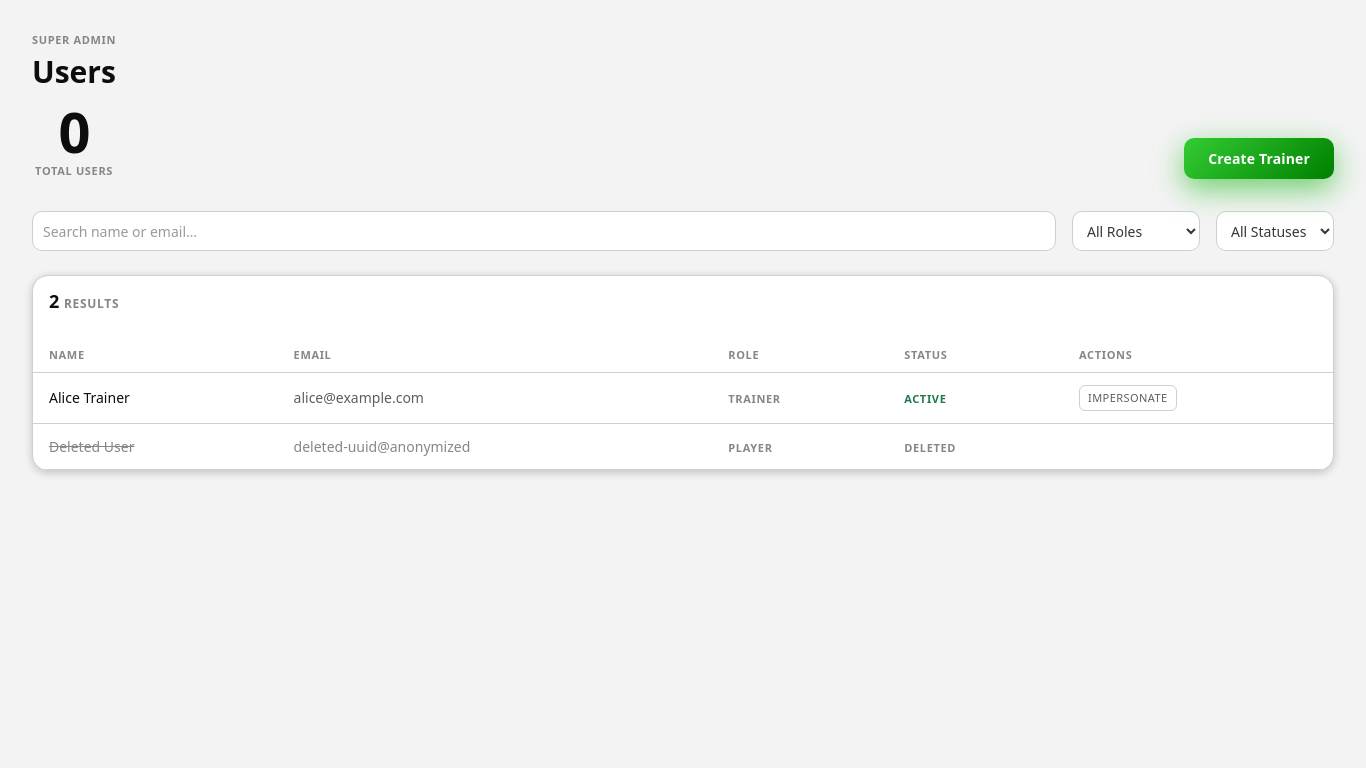
SA UsersPage › shows EMAIL_EXISTS error inline in the create sheet
expect the text "Alice Trainer" is shown: met, box [49,388,130,407]
Click the button "Create Trainer": point(1259, 158) [1184,138,1334,179]
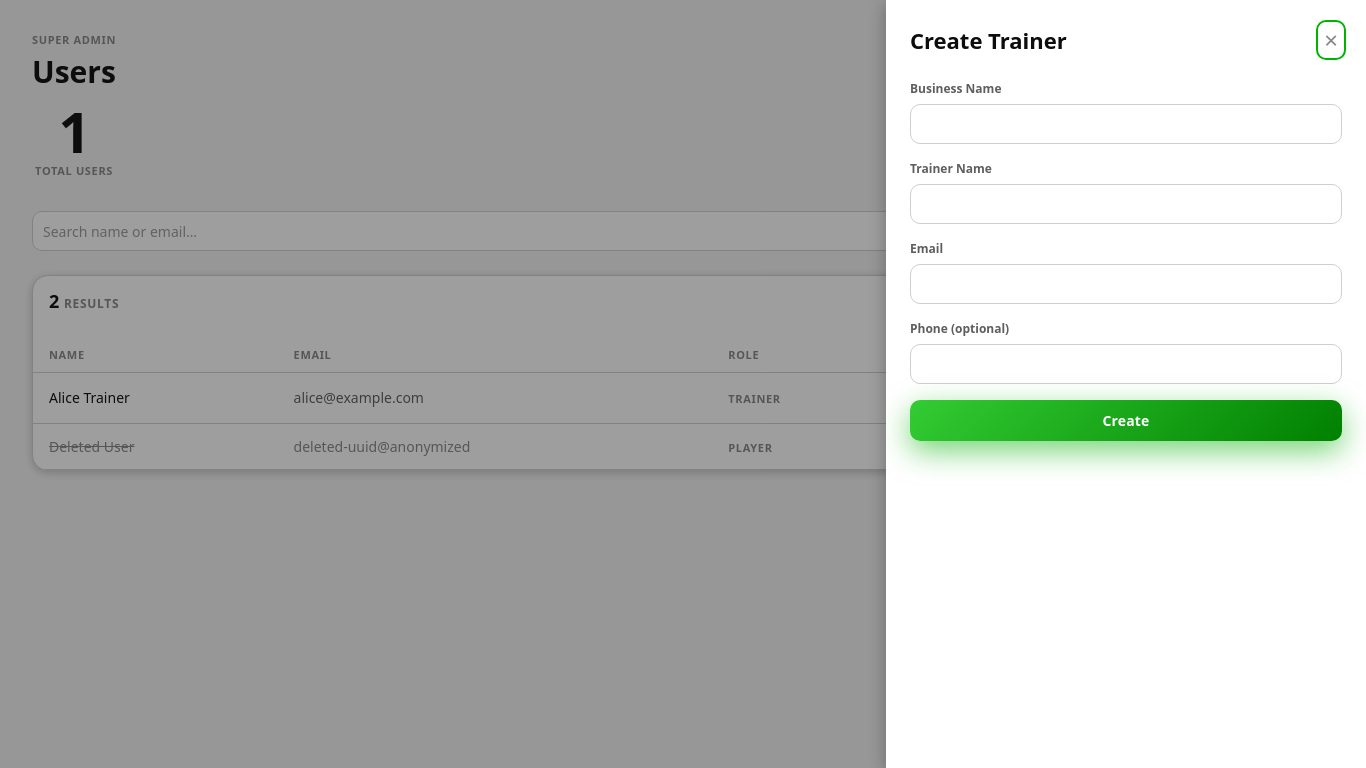
// Fill required fields within the dialog
In the field labelled "Business Name": point(1126, 124) [910,104,1342,144], type "Acme Inc"
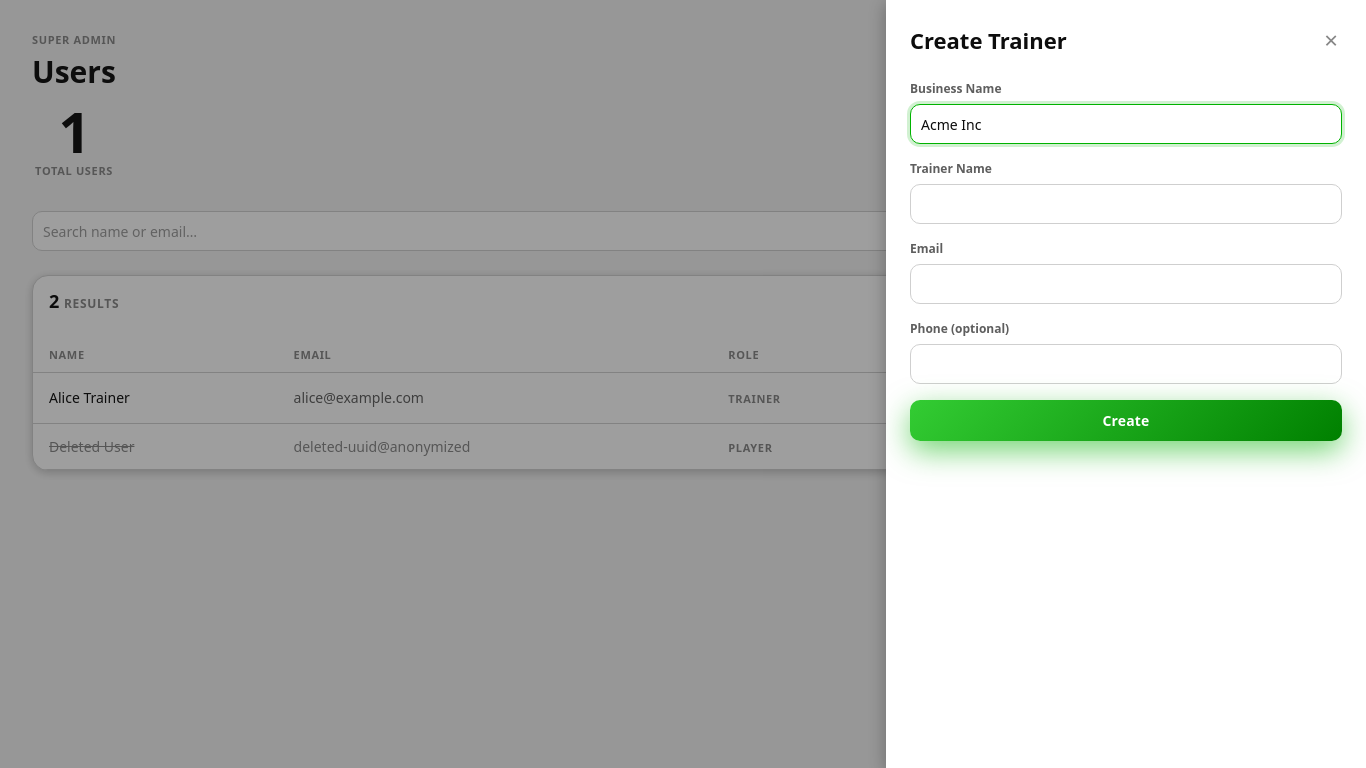
In the field labelled "Trainer Name": point(1126, 204) [910,184,1342,224], type "Bob Trainer"
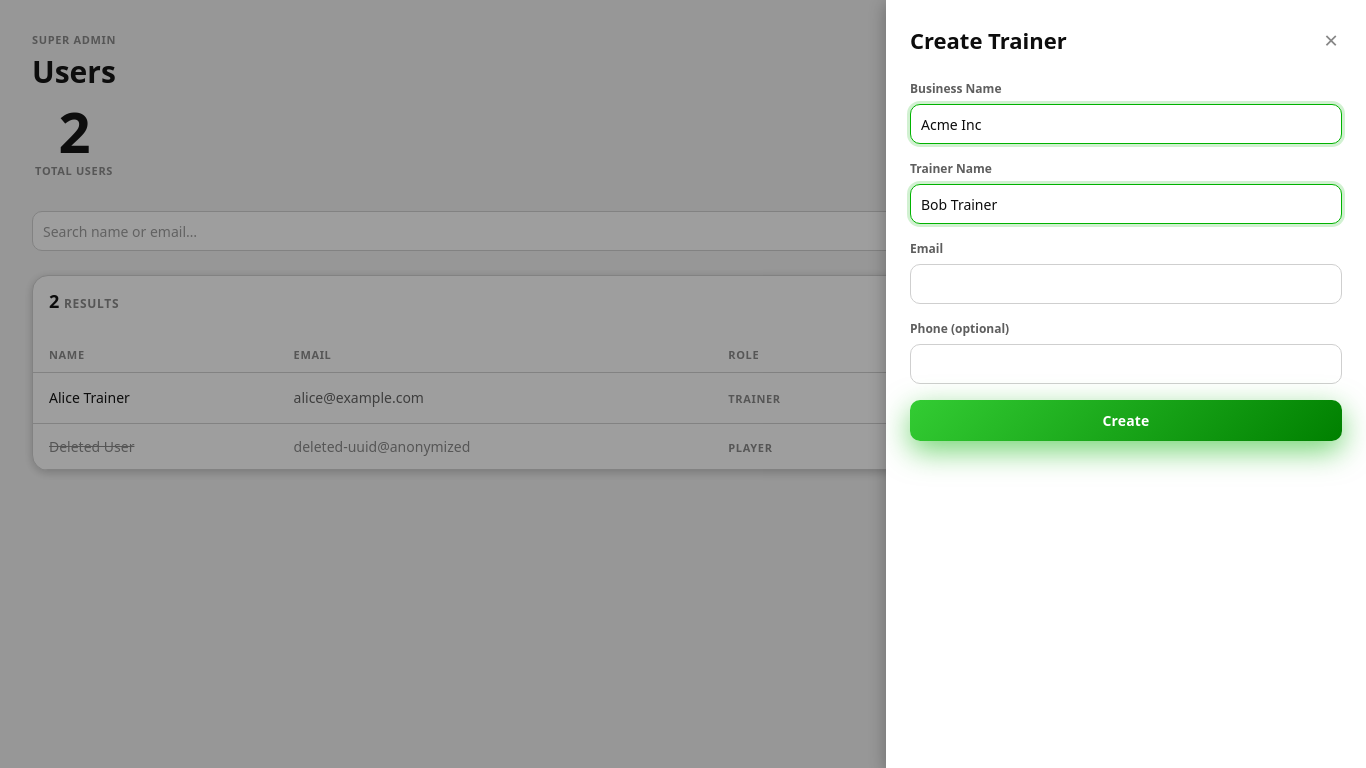
In the field labelled "Email": point(1126, 284) [910,264,1342,304], type "existing@example.com"
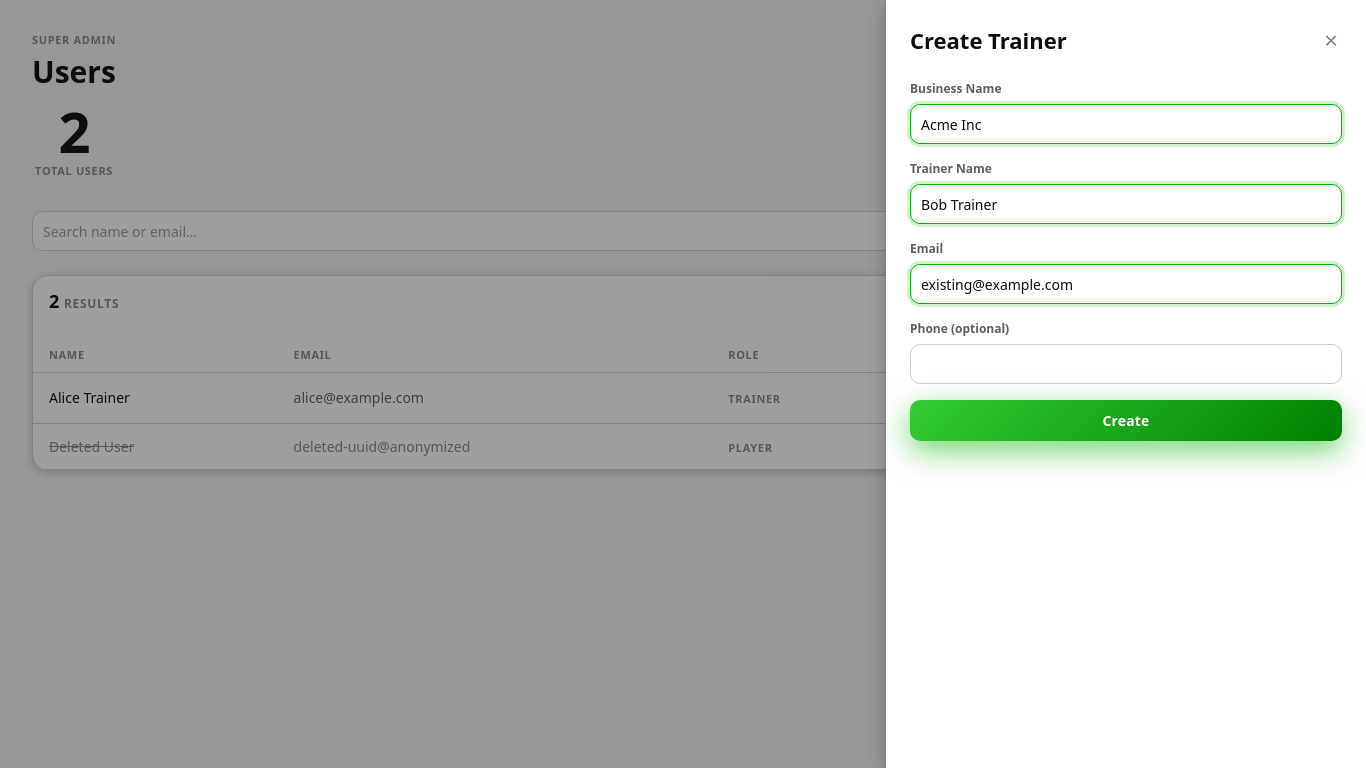
Click the button "Create": point(1126, 420) [910,400,1342,441]
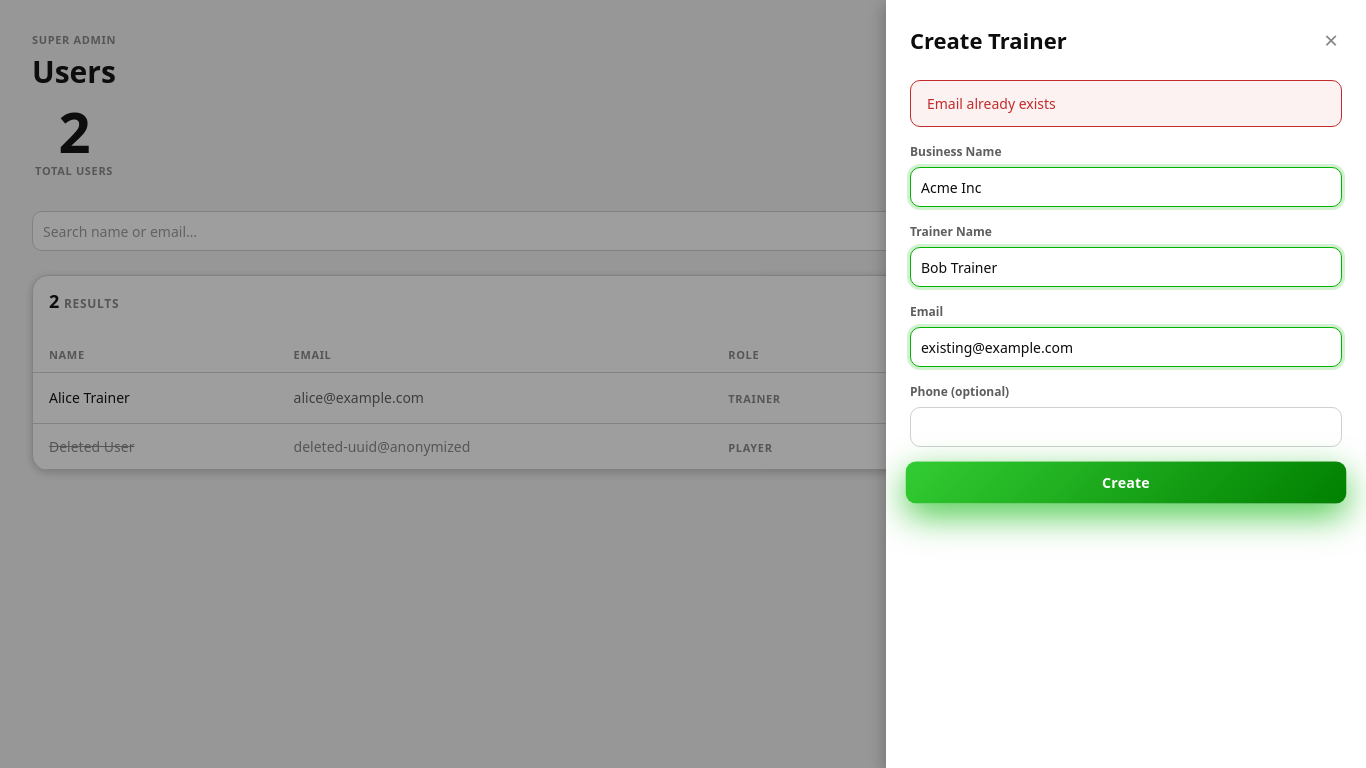
expect the text "Email already exists" is shown: met, box [910,80,1342,127]
